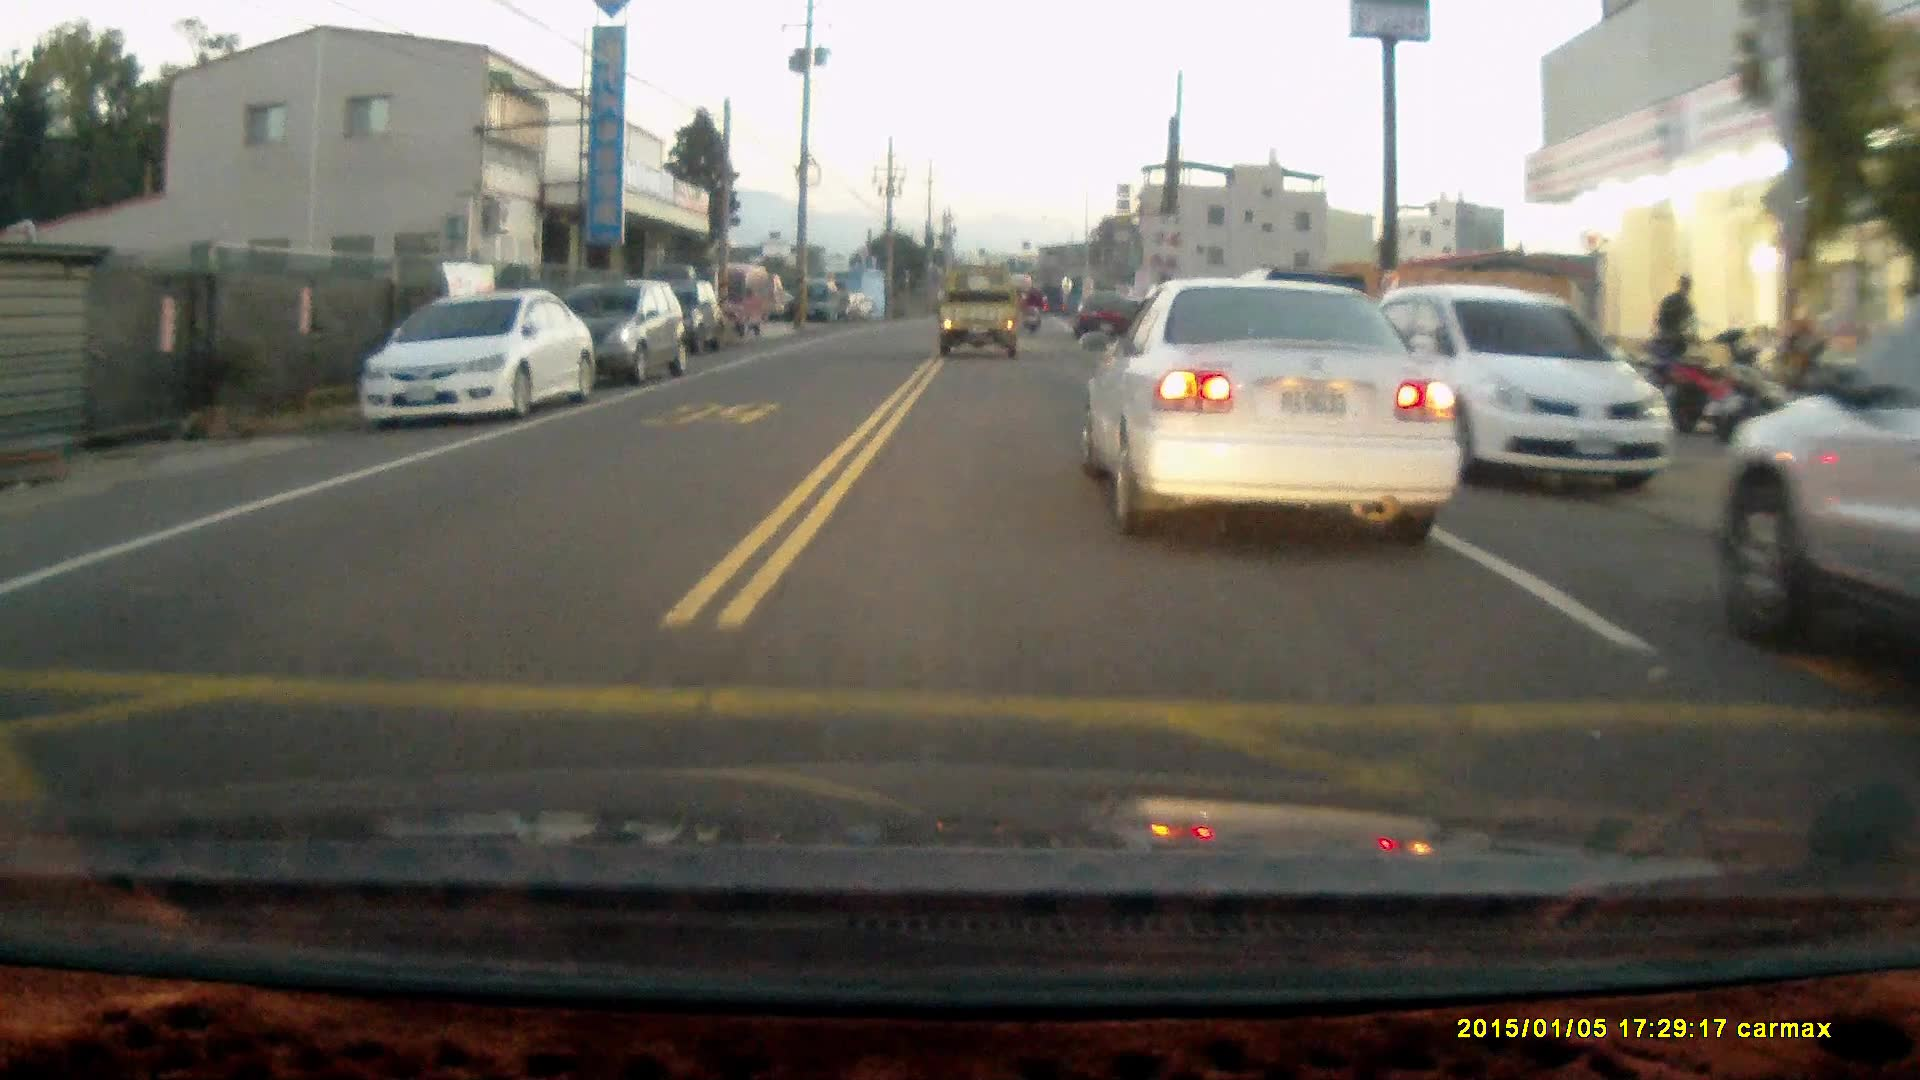pedestrian: (1654, 275, 1701, 387)
rider: (1019, 284, 1045, 332)
vehicle: (1088, 282, 1451, 545), (1712, 317, 1920, 734), (1363, 290, 1684, 503), (359, 292, 599, 436), (536, 287, 691, 399), (623, 278, 732, 359), (940, 272, 1027, 370), (704, 266, 779, 343), (1072, 289, 1133, 341)
